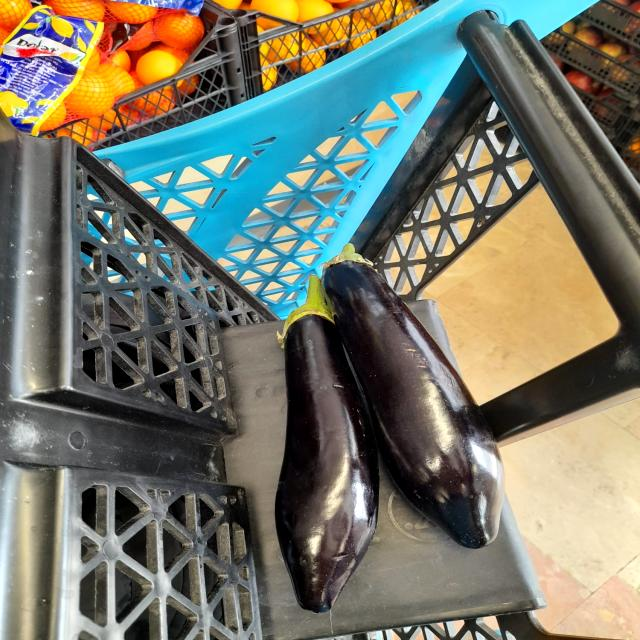eggplant: (314, 232, 512, 550), (263, 262, 373, 614)
